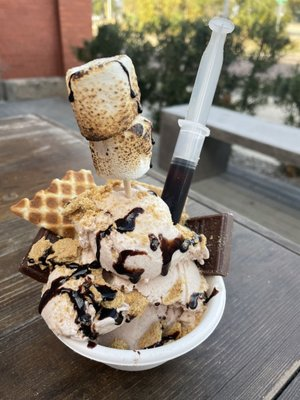curry: (65, 52, 154, 184)
